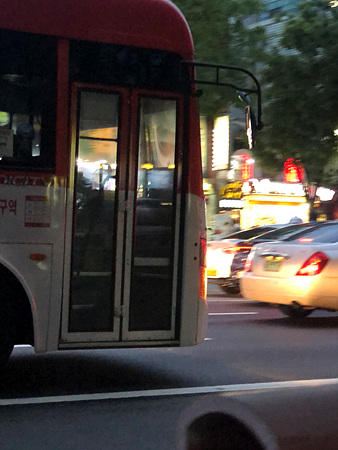entrance: (65, 80, 183, 338)
